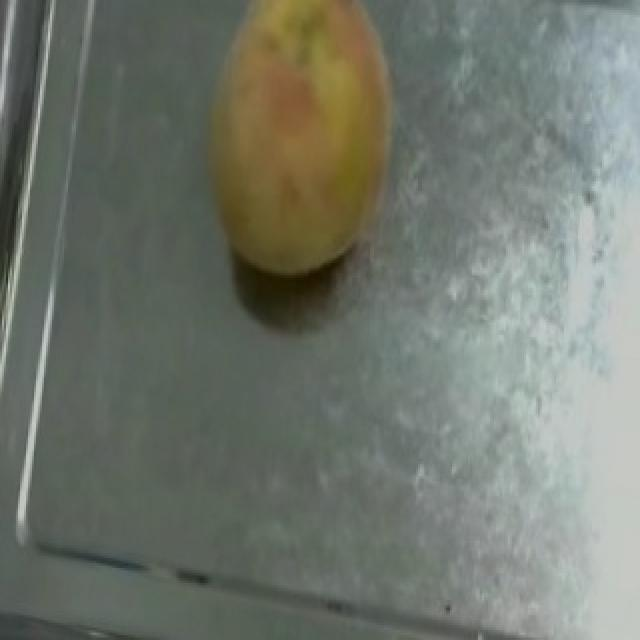Fruit: (176, 0, 428, 295)
